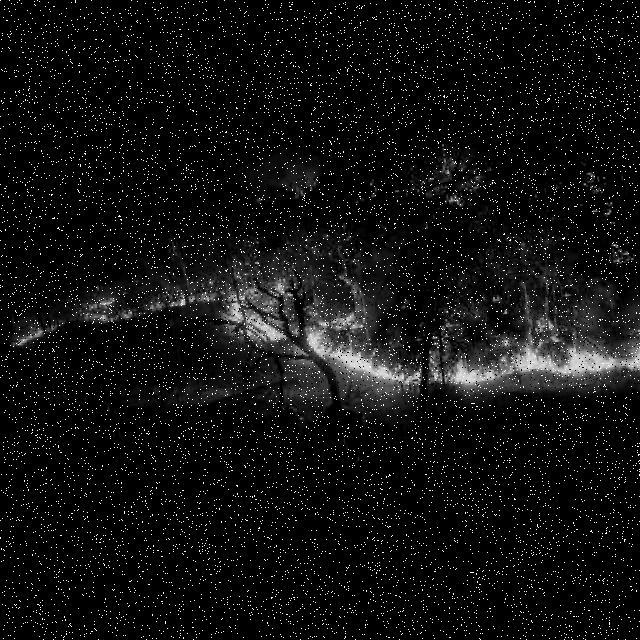Fire: (3, 282, 114, 356), (323, 333, 421, 400), (113, 276, 227, 331), (286, 315, 349, 366)
